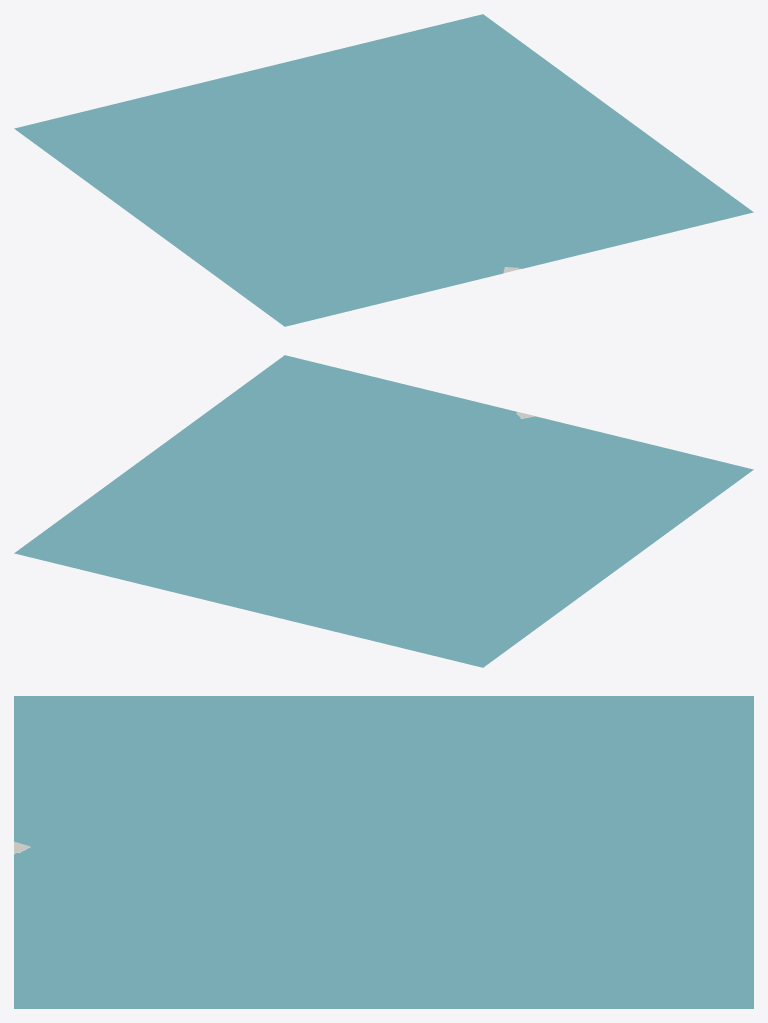
The picture shows the model from 3 angles, top to bottom: view 1: azimuth 30°, elevation 25°; view 2: azimuth 150°, elevation 25°; view 3: azimuth 270°, elevation 25°; orthographic projection. The views are drawn at different scales.
Visible parts, largest first — view 1: city; view 2: city; view 3: city.
Boxes of the visible parts, box(x1,y1,x2,y2) form: city: box(14, 14, 753, 326); city: box(14, 355, 753, 667); city: box(14, 696, 753, 1008).
Size of the model in its own units: 500 by 0.18 by 500.
